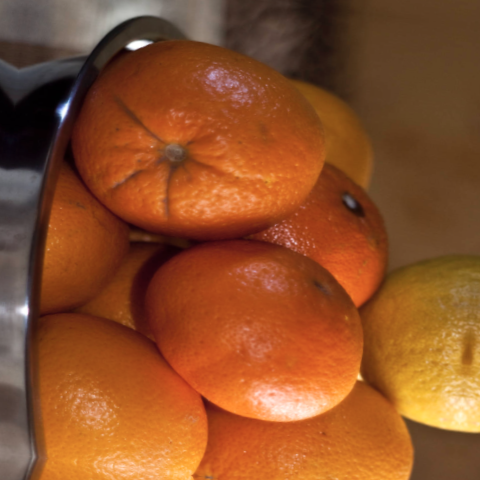orange: (43, 15, 345, 259), (122, 210, 420, 440)
